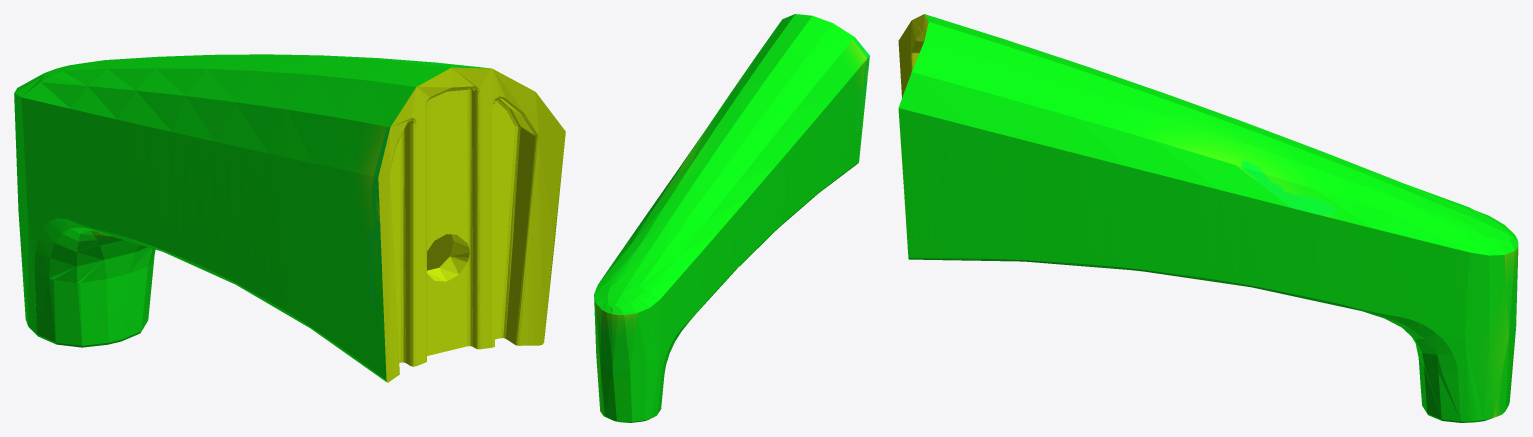
The picture shows the model from 3 angles, left to right: view 1: azimuth 30°, elevation 25°; view 2: azimuth 150°, elevation 25°; view 3: azimuth 270°, elevation 25°; orthographic projection. The views are drawn at different scales.
Visible parts, largest first — view 1: 5412; view 2: 5412; view 3: 5412.
Part boxes in pixels (box(x1,y1,x2,y2)): 5412: box(14, 54, 565, 382); 5412: box(594, 14, 869, 422); 5412: box(898, 14, 1518, 422).
Size of the model in its own units: 0.6301 by 1.68 by 2.46.
1 material, 1 textured.
